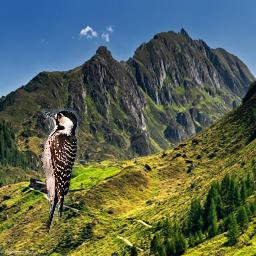Woodpecker: (37, 107, 79, 238)
